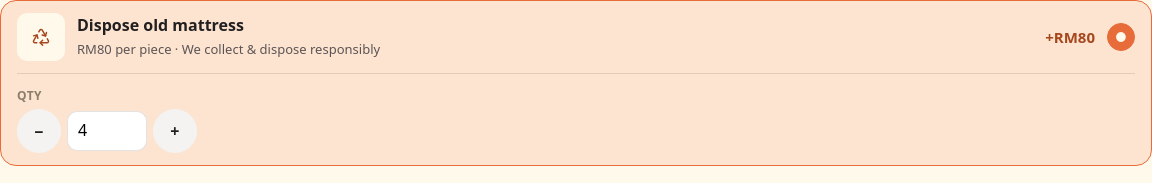
AddonCard steppers › qty: typing still allows a cleared field until blur (draft behaviour kept)
The width and height of the screenshot is (1152, 183).
Clear the number field labelled "Qty". click: (107, 131)
box: x1=67 y1=111 x2=147 y2=151
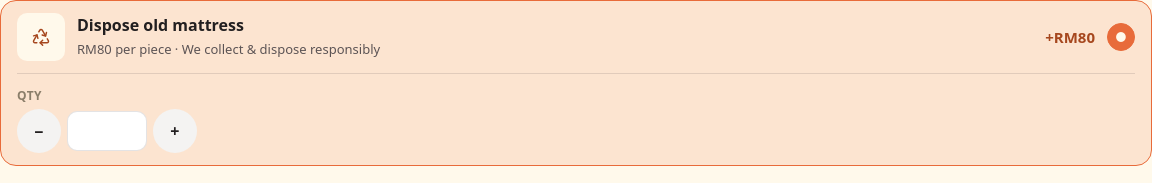
Leave the number field labelled "Qty", box x1=67 y1=111 x2=147 y2=151
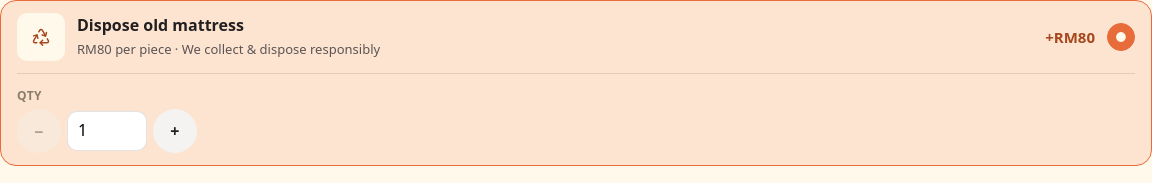
expect the number field labelled "Qty" holds "1": met, box x1=67 y1=111 x2=147 y2=151
